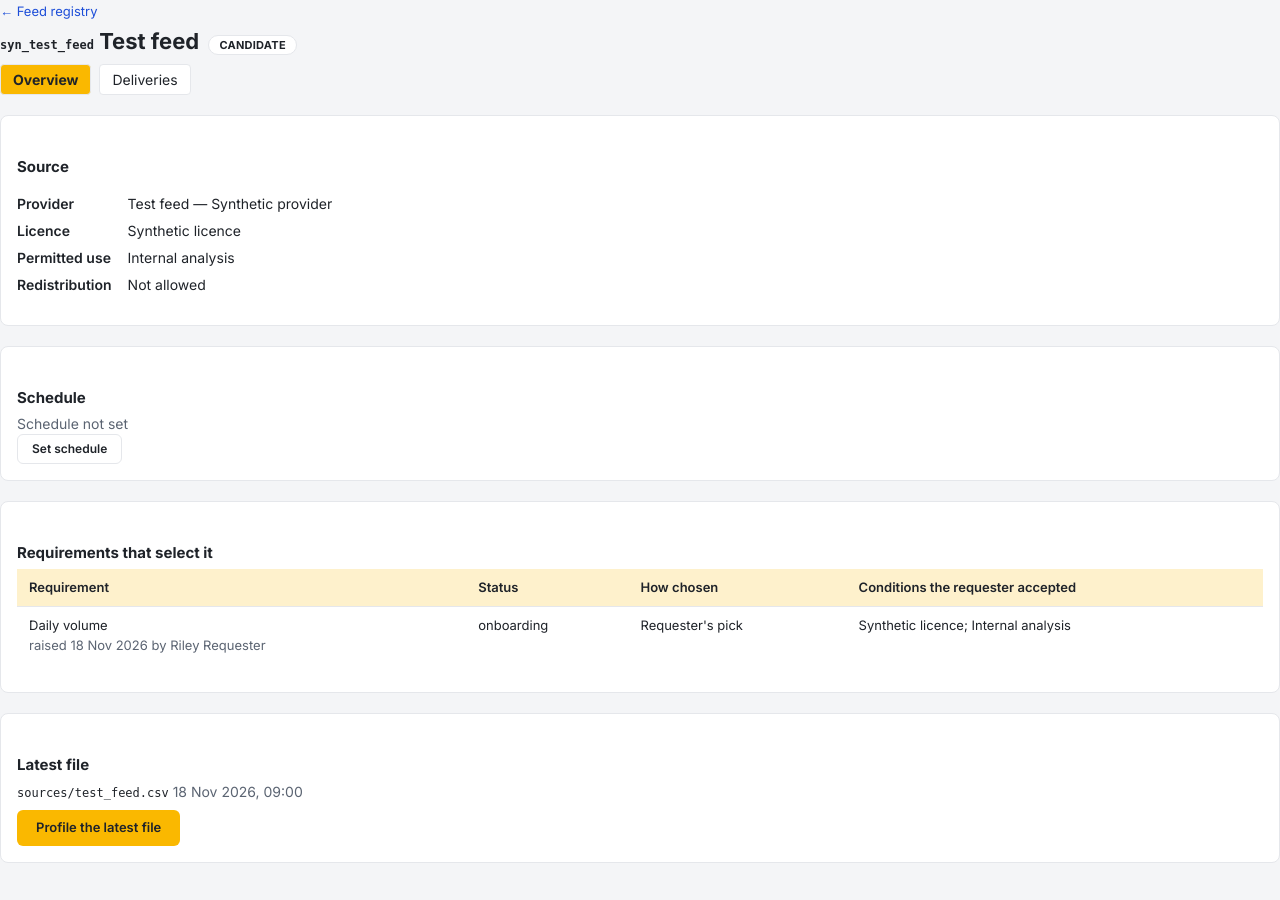
Test: P9: the result line shows under the heading of the next section, and only once
Click the button with test id "profile".
click(99, 828)  # box x1=17 y1=810 x2=180 y2=846
(page scrolled)
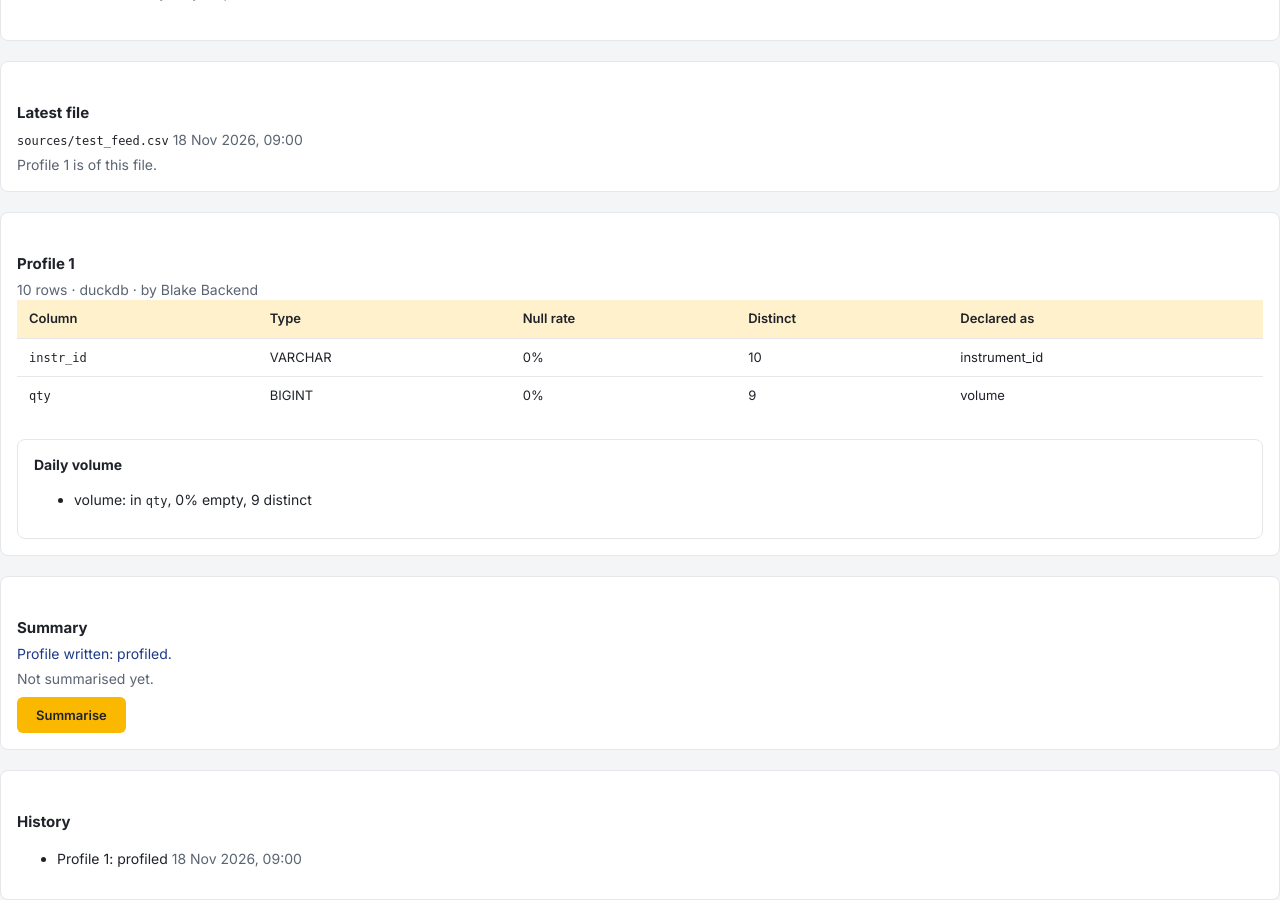
Check: the number of messages with test id "feed-done" is 1, box x1=17 y1=645 x2=172 y2=662
Check: the message with test id "feed-done" reads "Profile written: profiled.", box x1=17 y1=645 x2=172 y2=662
